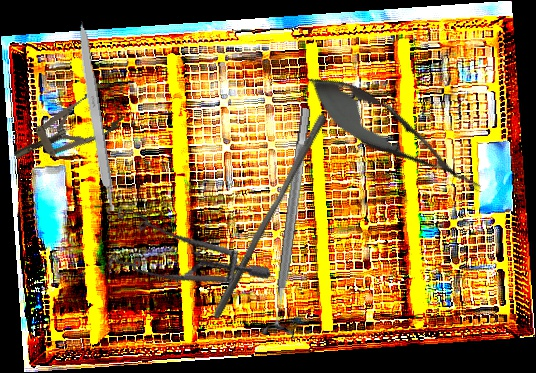Fixation Ring: (259, 106, 325, 339)
Micro Scissor: (293, 59, 496, 211)
Pusher: (210, 109, 329, 325)
Scalpel Handle: (73, 20, 117, 213)
Speculum: (94, 173, 272, 317), (3, 78, 130, 177)
